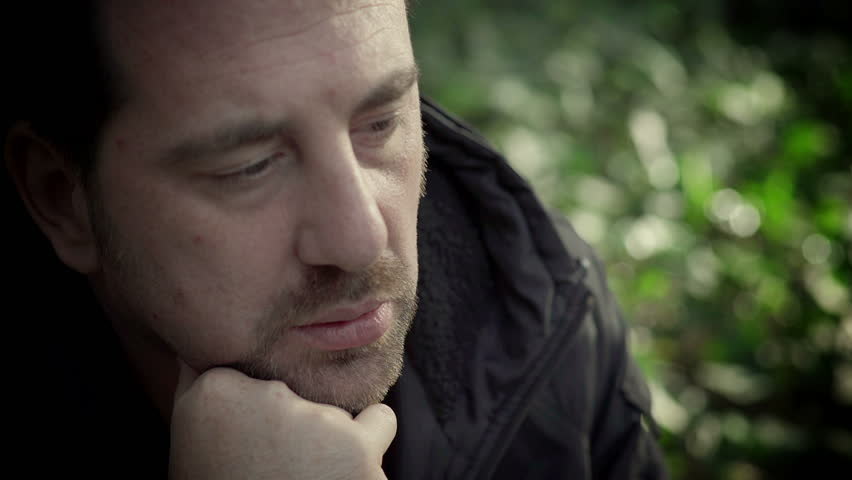sad: (106, 32, 427, 411)
